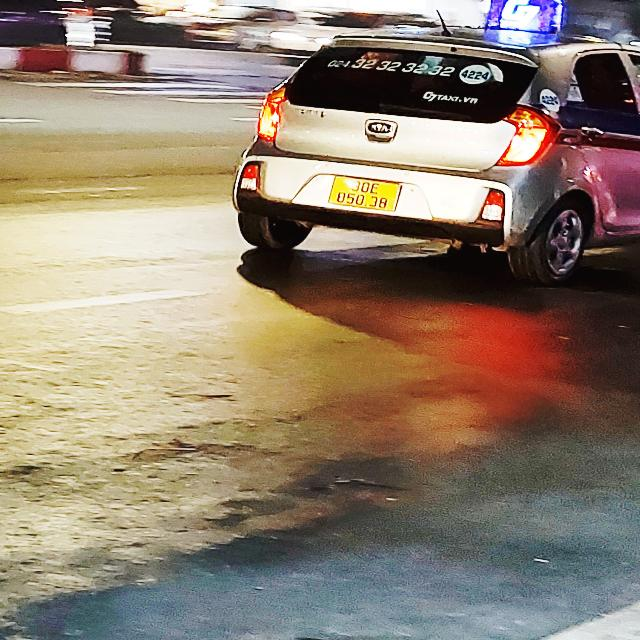license_plate: (328, 175, 404, 213)
